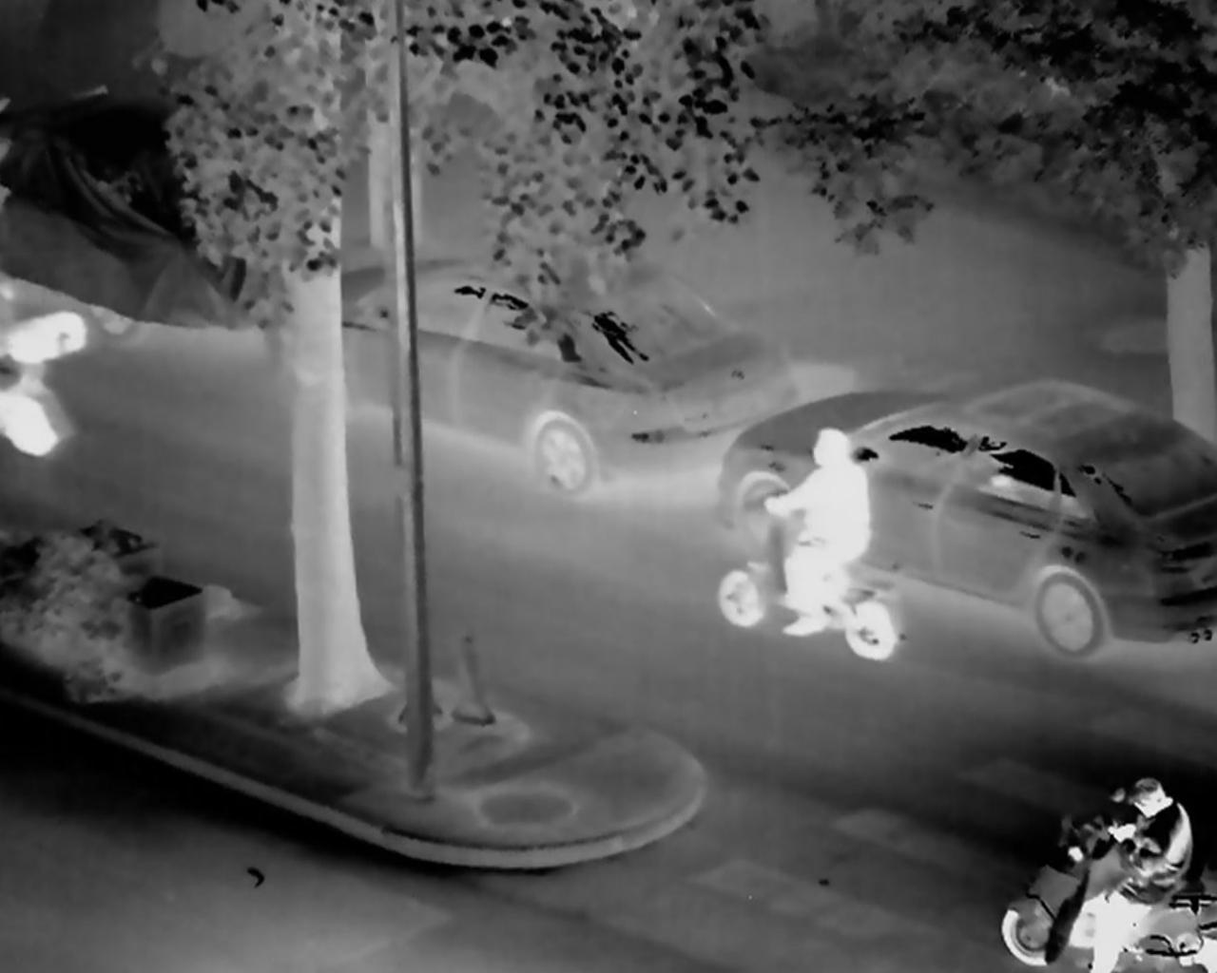person: (732, 421, 892, 663), (1074, 769, 1205, 968)
